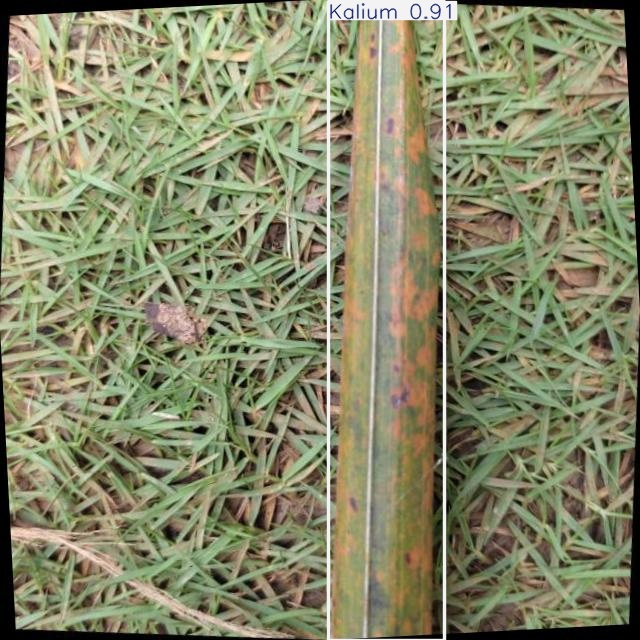Kalium: (329, 2, 445, 640)
